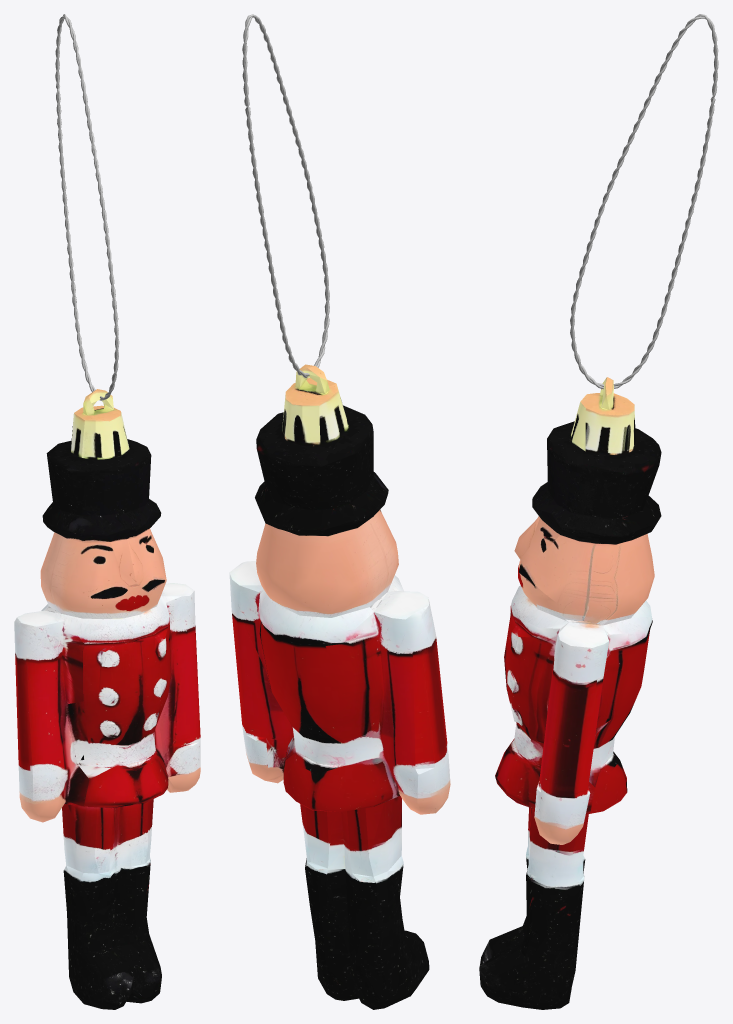
The model's file is Nutcracker_Soldier2.glb.
3 renders of one model, left to right at view 1: azimuth 30°, elevation 25°; view 2: azimuth 150°, elevation 25°; view 3: azimuth 270°, elevation 25°, orthographic. The views are drawn at different scales.
Visible parts, largest first — view 1: Mesh1.0, GN Instance; view 2: Mesh1.0, GN Instance; view 3: Mesh1.0, GN Instance.
Part boxes in pixels (<box>): Mesh1.0: <box>14,389,200,1009</box>; GN Instance: <box>55,14,119,400</box>; Mesh1.0: <box>229,364,450,1009</box>; GN Instance: <box>242,14,329,377</box>; Mesh1.0: <box>479,377,661,1009</box>; GN Instance: <box>570,14,718,389</box>.
Size of the model in its own units: 0.0415 by 0.2057 by 0.0447.
2 materials, 1 textured.
